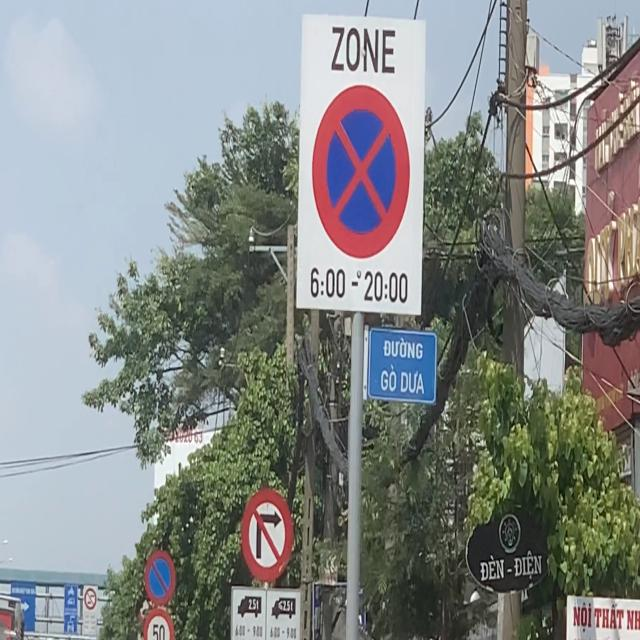Cam do: (138, 542, 180, 602)
Cam dung va do: (310, 79, 413, 263)
Cam re phai: (237, 487, 292, 588)
Toc do toi da: (140, 602, 176, 640)
